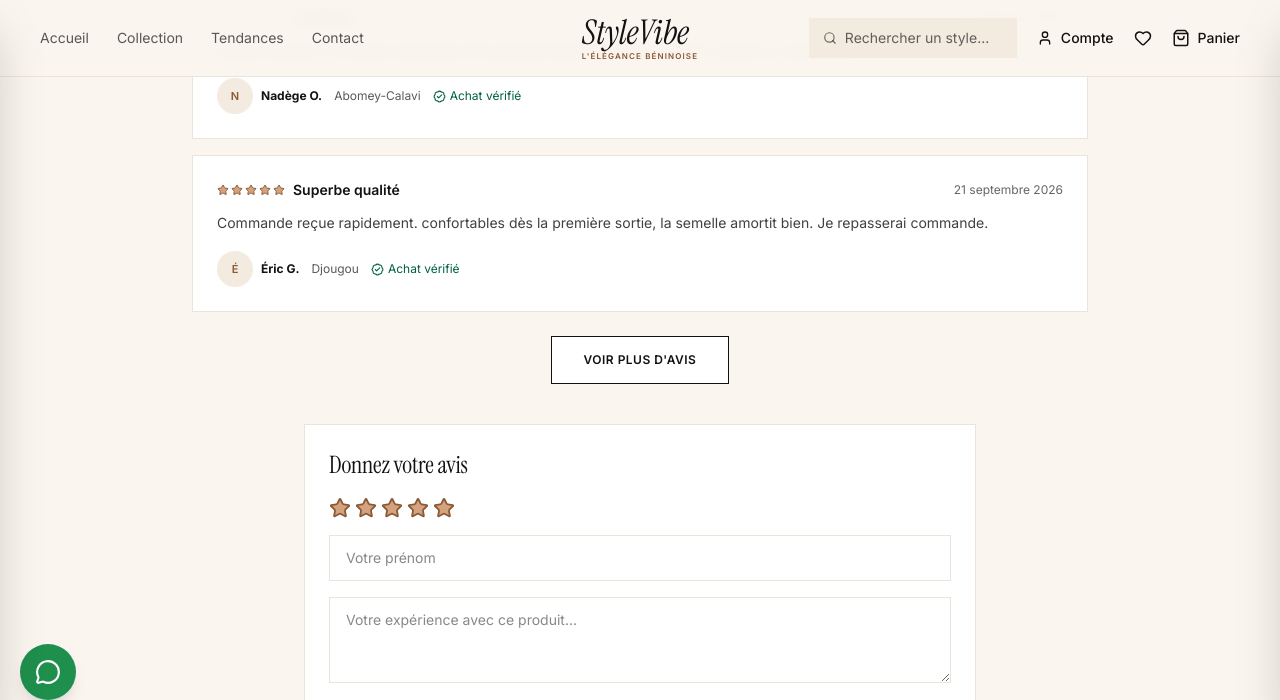
Scenario: avis › affiche 6 avis puis en charge 6 de plus
(page scrolled)
Click the button "Voir plus d'avis": (640, 360) 551,336 -> 730,384
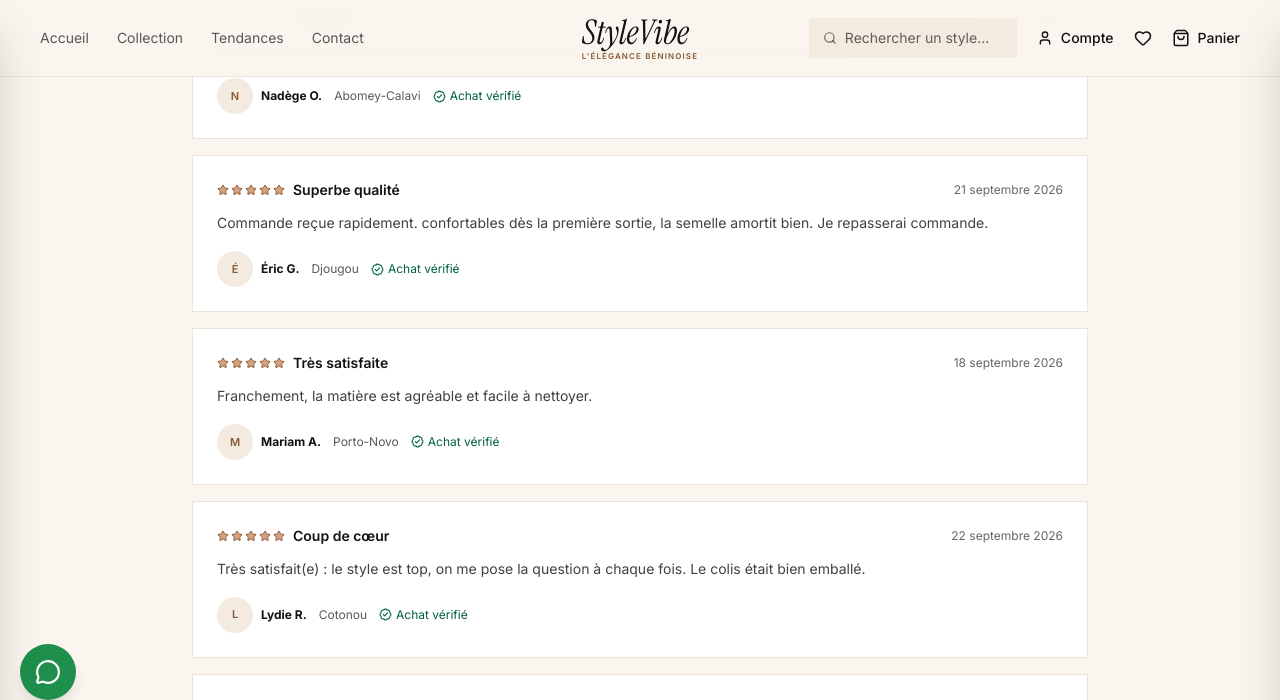
Now the text "achat vérifié" is shown 12 times
